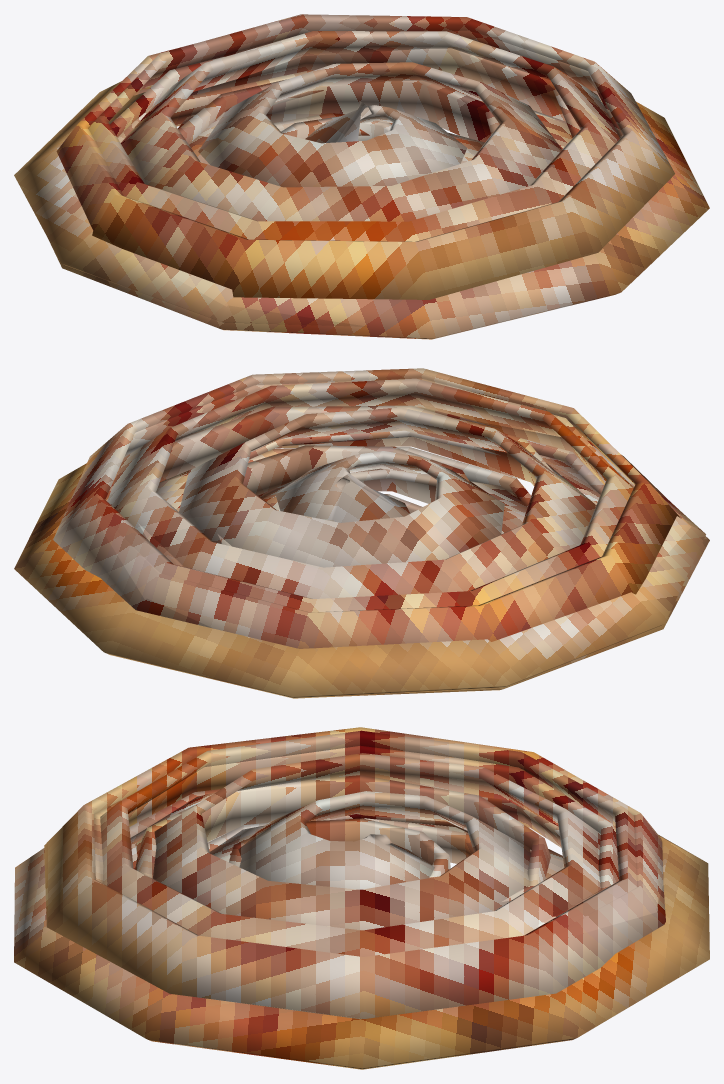
The model's file is FunnelCake_Ground.fbx.
3 renders of one model, top to bottom at view 1: azimuth 30°, elevation 25°; view 2: azimuth 150°, elevation 25°; view 3: azimuth 270°, elevation 25°, orthographic. The views are drawn at different scales.
Visible parts, largest first — view 1: FunnelCake; view 2: FunnelCake; view 3: FunnelCake.
Boxes of the visible parts, x1=… form: FunnelCake: x1=14, y1=14, x2=709, y2=339; FunnelCake: x1=14, y1=368, x2=709, y2=698; FunnelCake: x1=14, y1=727, x2=709, y2=1069.
Bounding box in the file's own units: 24.58 × 3.85 × 23.5.
